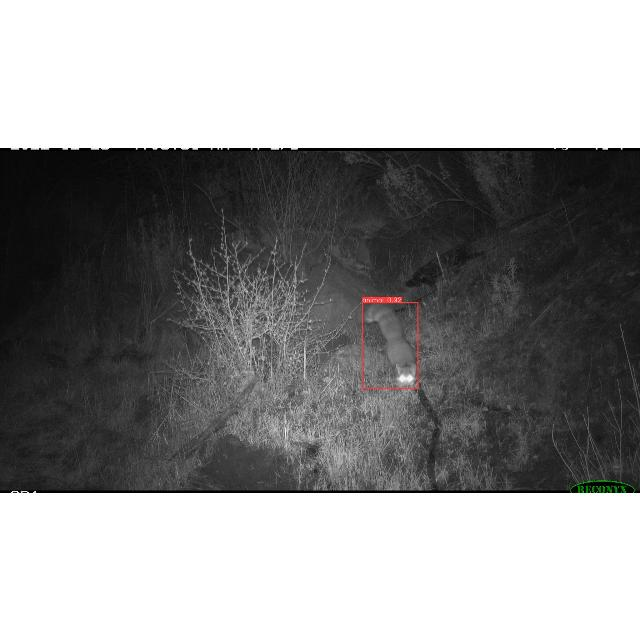animals: (362, 302, 418, 386)
